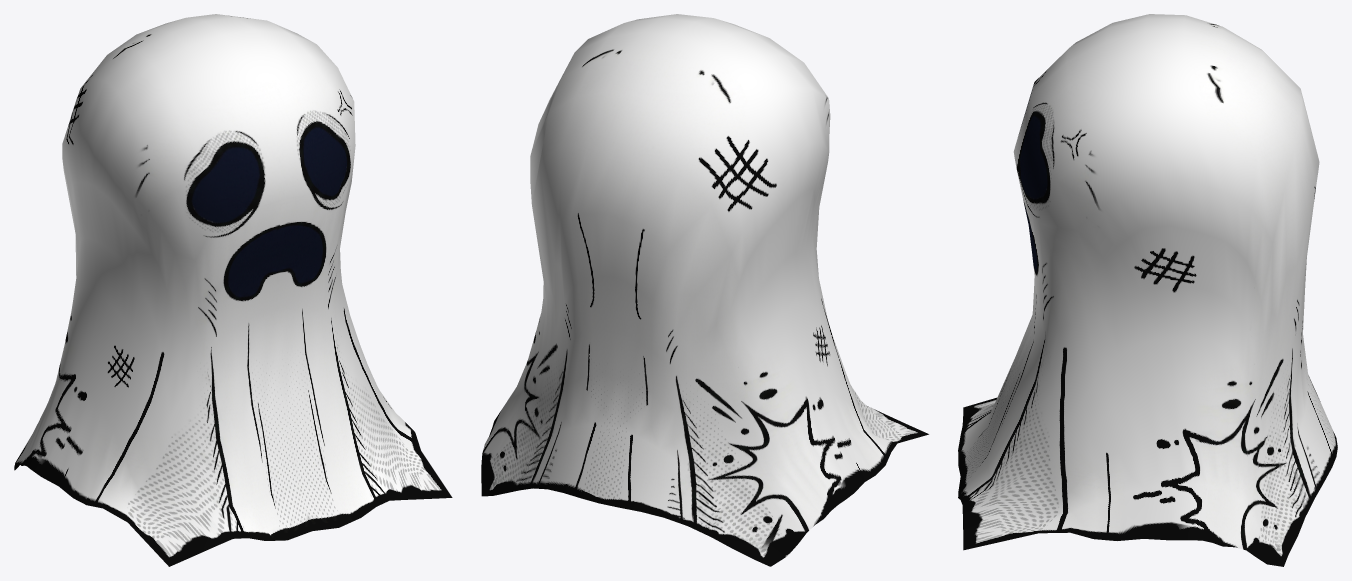
File: Ghost.fbx
3 views of the same model, side by side, from view 1: azimuth 30°, elevation 25°; view 2: azimuth 150°, elevation 25°; view 3: azimuth 270°, elevation 25° (orthographic). The views are drawn at different scales.
Parts seen in each view (by area): view 1: Ghost; view 2: Ghost; view 3: Ghost.
Part boxes in pixels (x1,y1,x2,y2): Ghost: (14,14,452,566); Ghost: (481,14,928,566); Ghost: (958,14,1337,566).
Bounding box in the file's own units: 1064 × 996 × 1344.
Materials: 1 (1 with a texture image).
